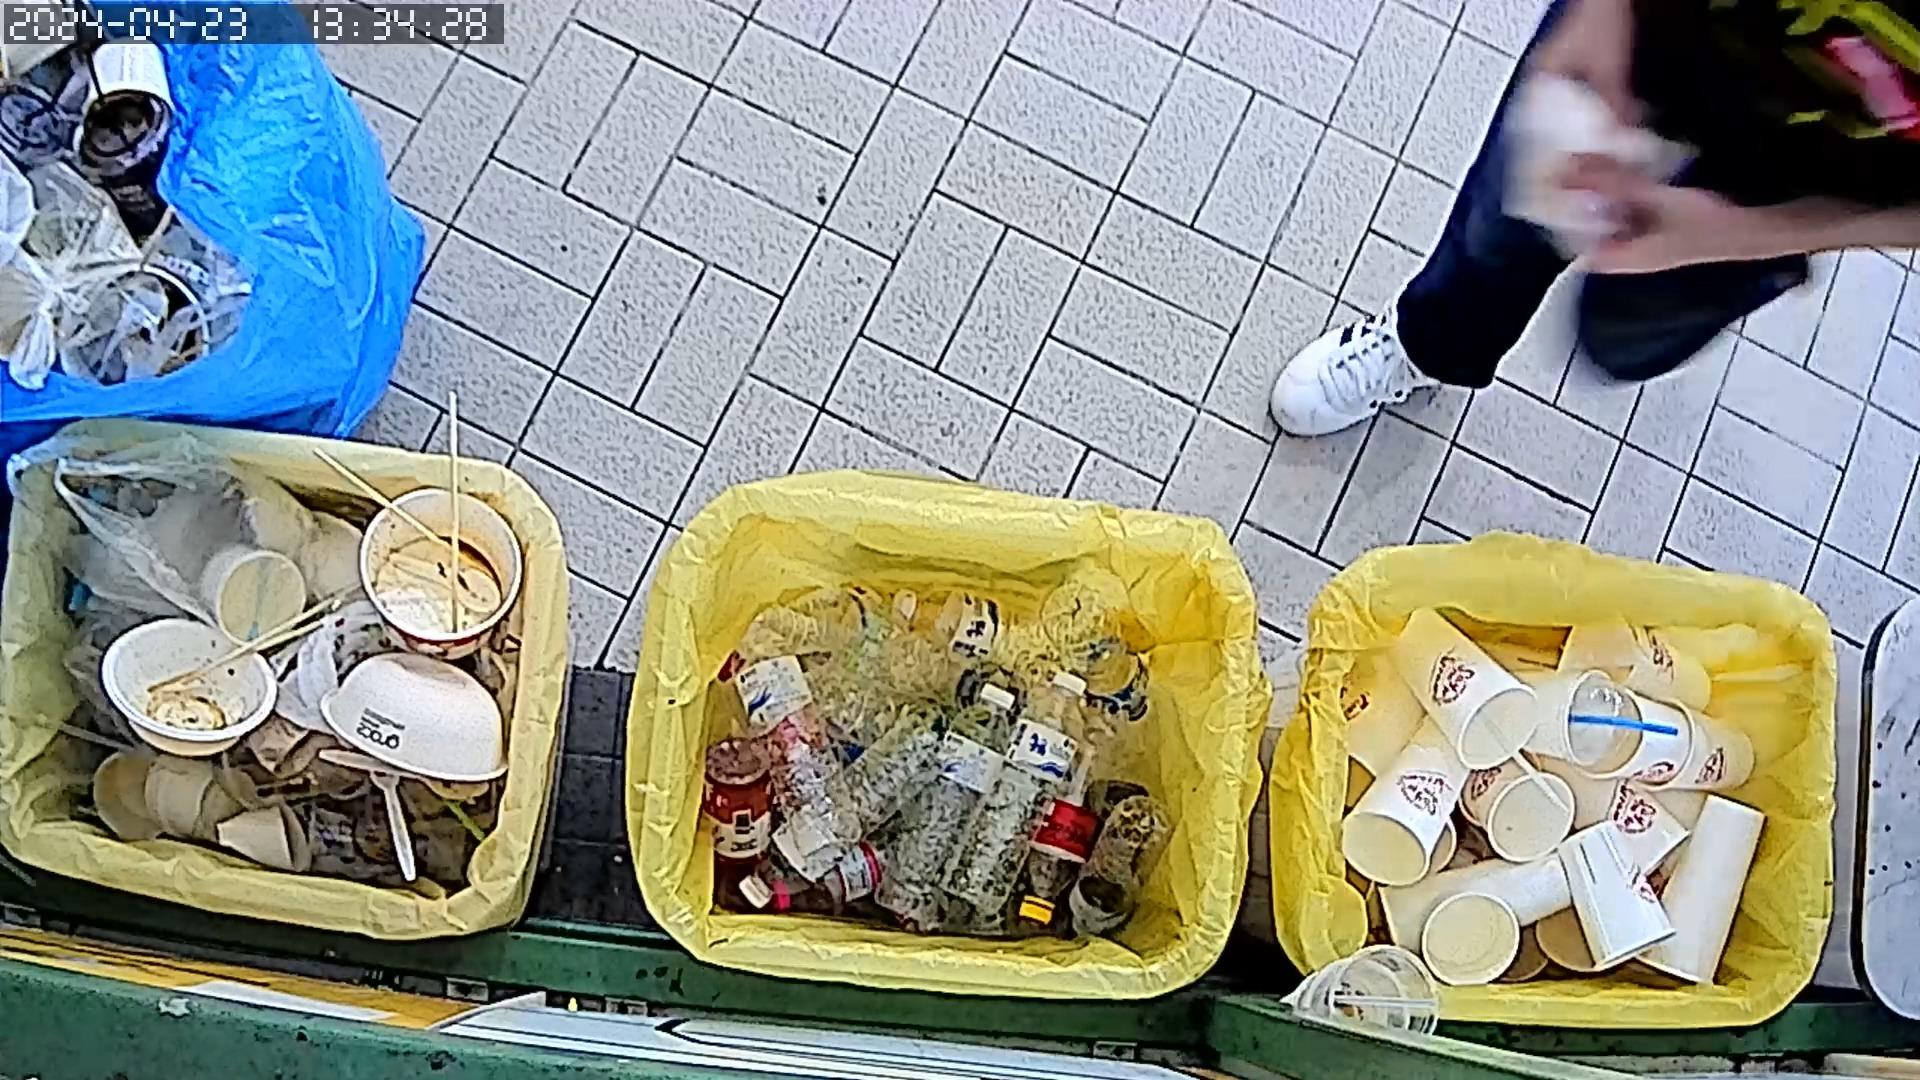can: (707, 735, 778, 872)
filled plastic bag: (13, 425, 316, 651)
food container: (355, 481, 529, 669), (94, 613, 286, 764), (314, 649, 518, 787), (137, 750, 257, 858), (1416, 886, 1528, 993), (80, 744, 189, 852)
plastic bottle: (922, 667, 1091, 916), (868, 678, 1023, 930), (725, 624, 866, 861), (1009, 728, 1113, 930), (1068, 790, 1182, 942), (1035, 583, 1155, 724), (898, 582, 1047, 671)
plastic cutlery: (378, 545, 506, 620), (356, 758, 427, 885), (309, 738, 448, 787)
sticks: (310, 440, 504, 576), (148, 576, 361, 696), (435, 393, 475, 646)
straw: (1482, 707, 1573, 819), (1571, 709, 1685, 740)
zero waste cup: (1631, 790, 1779, 988), (1335, 716, 1478, 897), (1395, 608, 1542, 775), (1542, 748, 1700, 898), (1547, 815, 1685, 975), (1555, 608, 1724, 720), (1581, 683, 1705, 800), (1668, 696, 1760, 804)
